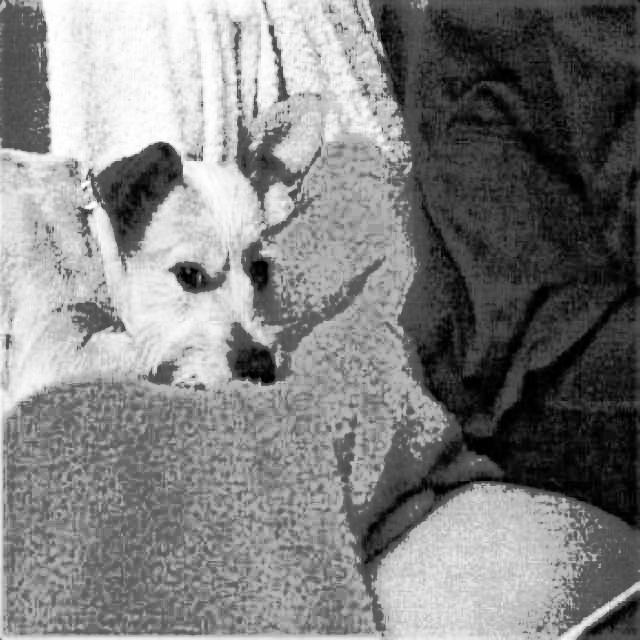Dog: (0, 83, 332, 424)
